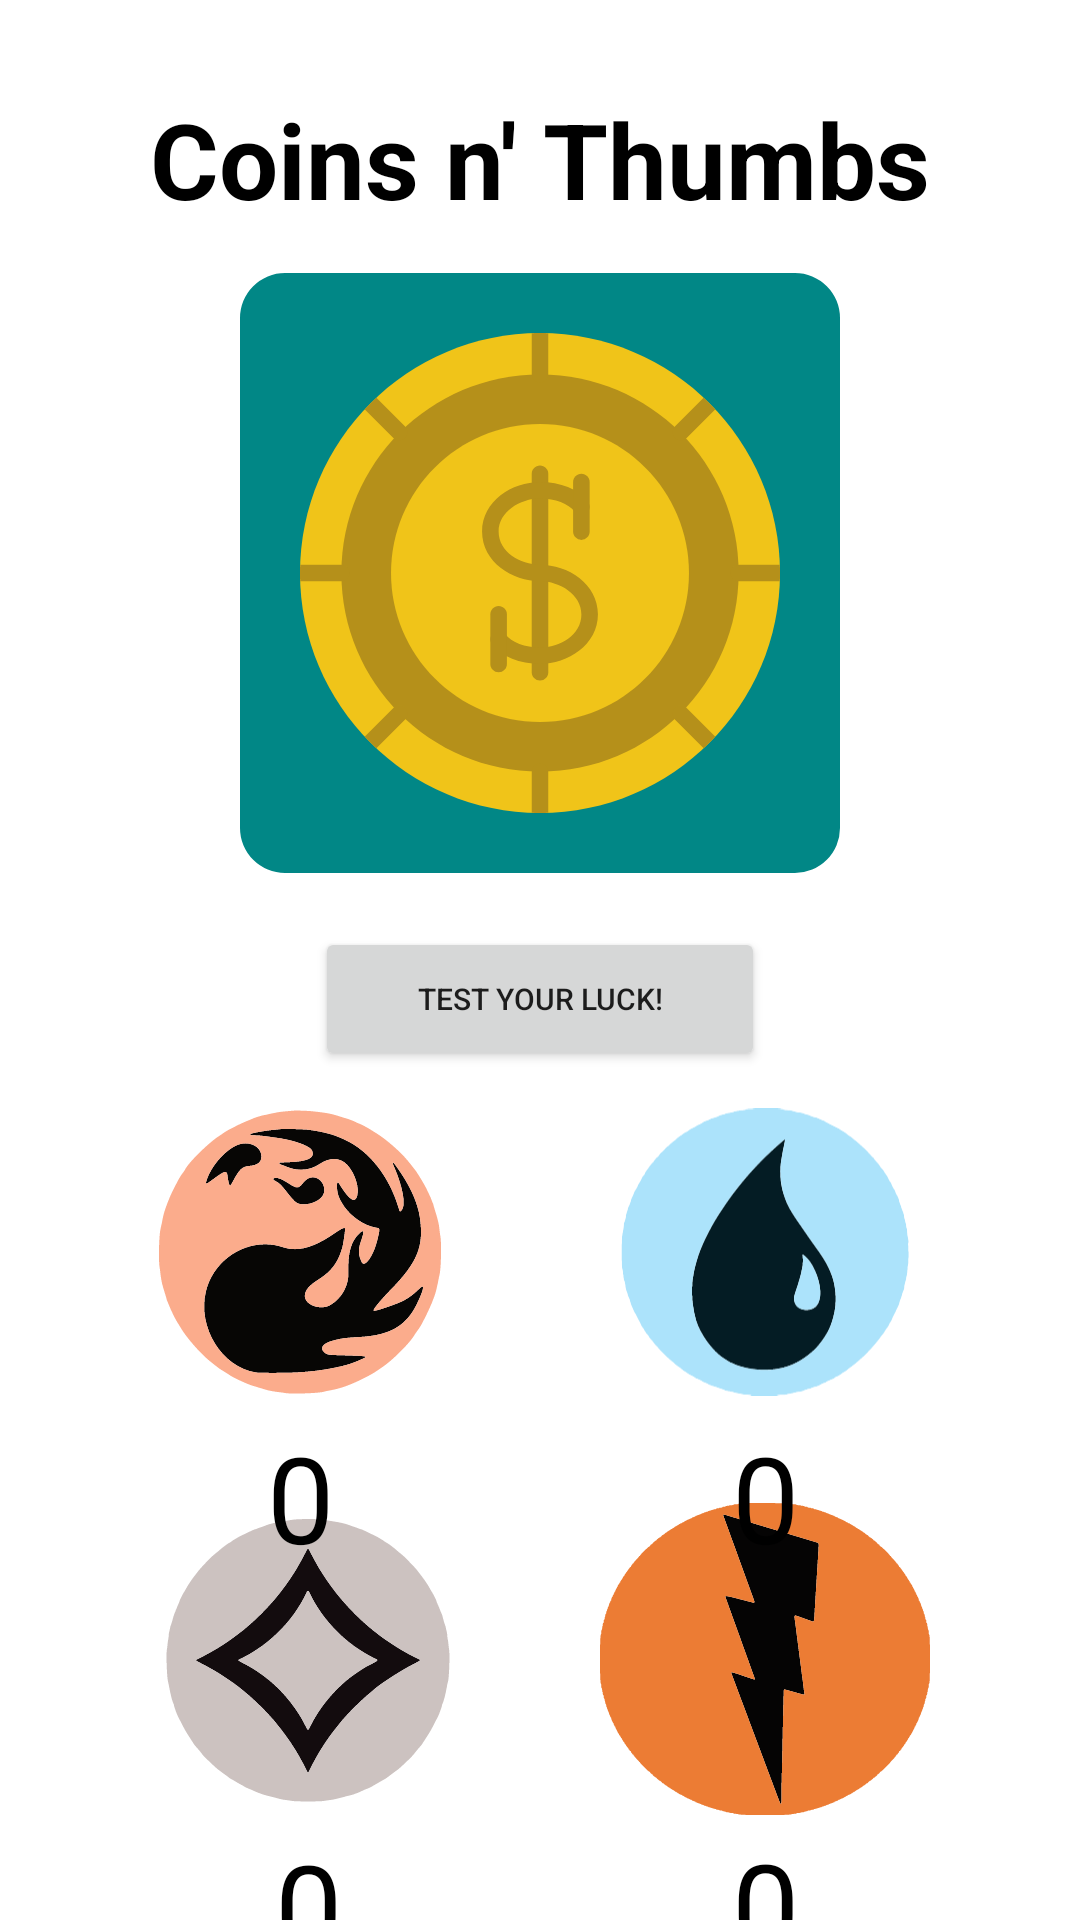

Point at icon controls on the screen. Image size 1080 x 1920, points as (x=x, y=y).
stormmana: (x=765, y=1654)
